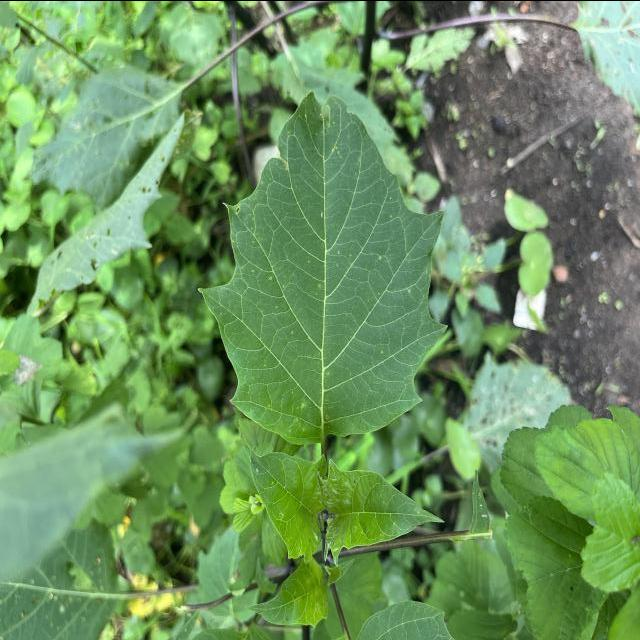Datura metal linn: (192, 88, 452, 447)
